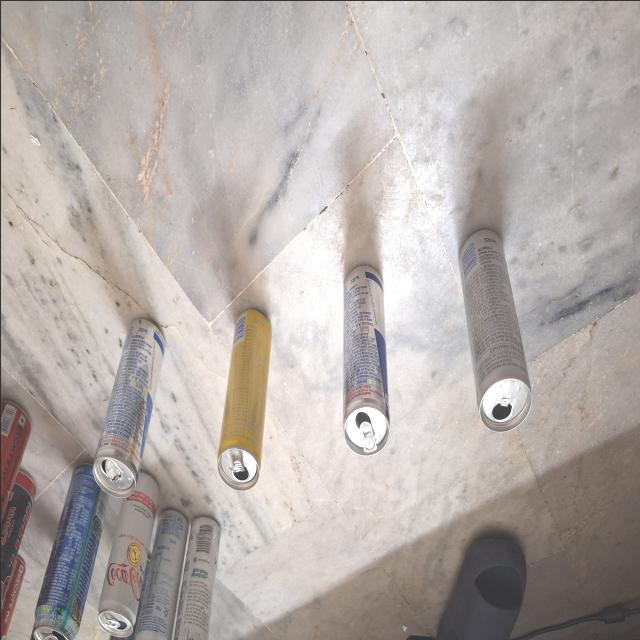Coca Cola: (0, 567, 35, 640)
Coca Cola Plus: (97, 473, 159, 631)
Coca Cola Zero: (0, 416, 39, 511)
Hell Apple: (0, 476, 40, 592)
Pepsi Retro: (137, 512, 189, 640)
Redbul: (338, 254, 389, 454)
Redbull DanceYourStyle: (90, 304, 166, 490)
Redbull Yellow Edition: (214, 305, 278, 489)
White Monster: (460, 227, 528, 436), (177, 509, 223, 640)
